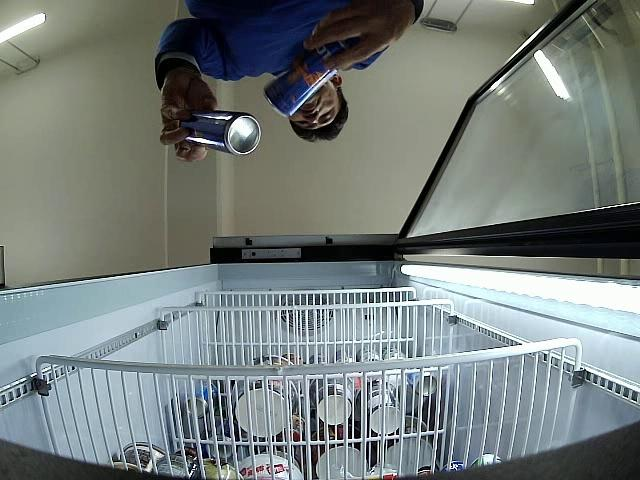00_hand: (305, 0, 416, 69), (160, 78, 218, 163)
16_hot6: (263, 41, 348, 119), (180, 111, 261, 156)
